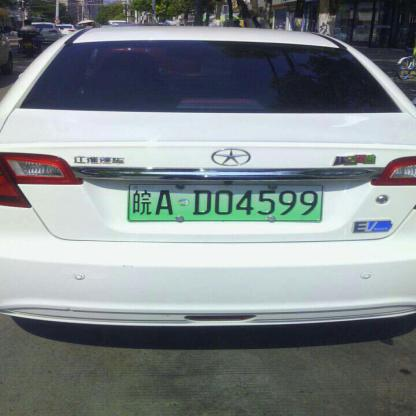lp: (129, 184, 325, 222)
